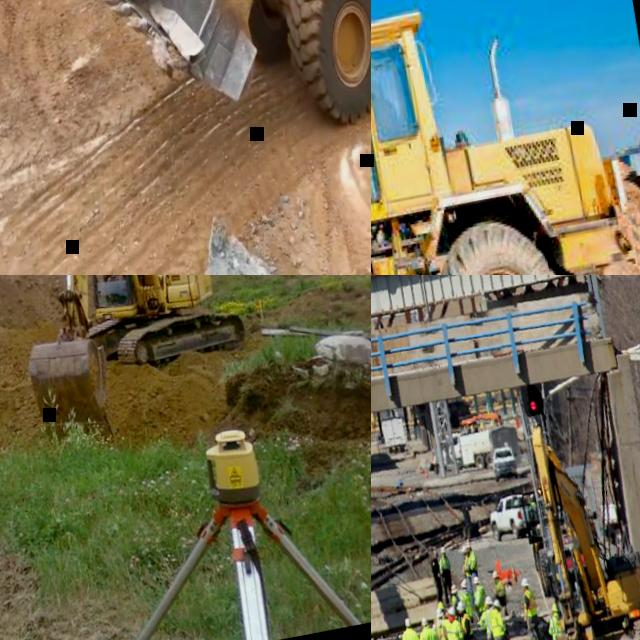Hardhat: (449, 583, 461, 595), (455, 601, 465, 612), (485, 596, 494, 608), (521, 579, 531, 589), (405, 617, 414, 627), (472, 577, 481, 587), (552, 602, 559, 614), (421, 618, 430, 627), (449, 607, 457, 617), (494, 600, 502, 610), (460, 582, 469, 590), (460, 547, 469, 555), (492, 570, 499, 579), (438, 609, 445, 617), (466, 541, 473, 549), (440, 547, 447, 554), (530, 495, 536, 501), (434, 551, 440, 557)
NO-Safety Vest: (431, 558, 441, 578)
Person: (371, 80, 399, 149), (516, 577, 546, 640), (528, 600, 570, 640), (485, 593, 519, 640), (472, 596, 506, 640), (491, 567, 518, 617), (455, 599, 485, 640), (437, 546, 457, 606), (428, 550, 448, 608), (441, 606, 473, 640), (471, 577, 491, 620), (459, 579, 478, 623), (431, 611, 459, 640), (416, 616, 449, 640), (396, 616, 427, 640), (465, 539, 481, 578), (458, 545, 473, 581), (448, 584, 463, 608), (529, 494, 540, 515), (437, 600, 447, 612)
Safety Cone: (510, 564, 519, 584), (419, 452, 426, 472), (423, 463, 430, 480), (416, 462, 422, 475)
Safety Vest: (477, 608, 498, 640), (489, 608, 509, 638), (442, 615, 465, 640), (523, 588, 540, 619), (472, 585, 489, 614), (546, 613, 564, 640), (461, 589, 476, 619), (432, 618, 451, 640), (459, 611, 475, 637), (417, 625, 443, 640), (438, 555, 453, 578), (398, 628, 422, 640), (494, 579, 508, 599), (461, 555, 473, 578), (467, 551, 479, 572), (451, 596, 460, 607), (531, 501, 538, 514)
vehicle: (371, 0, 640, 275), (63, 0, 371, 164), (0, 275, 260, 449), (513, 409, 640, 640), (439, 422, 523, 478), (486, 490, 542, 544), (490, 445, 521, 483), (378, 417, 408, 456)
